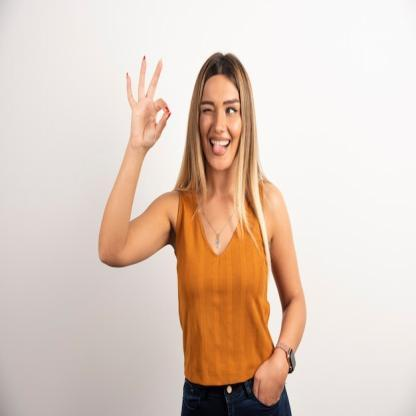ok: (124, 48, 173, 154)
